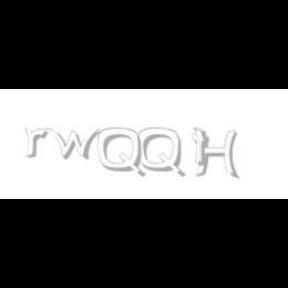H: (193, 128, 239, 180)
Q: (98, 128, 144, 178), (138, 128, 184, 178)
r: (24, 128, 52, 158)
t: (192, 128, 214, 168)
w: (46, 128, 104, 160)
